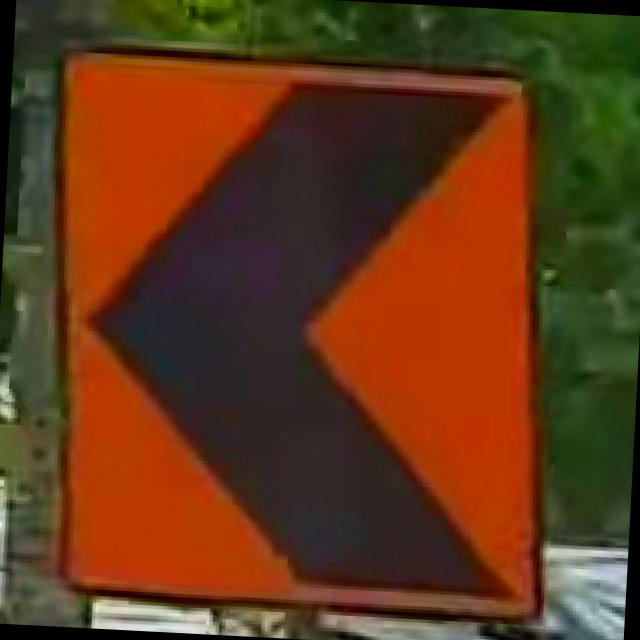curveleft_sign: (28, 42, 572, 622)
